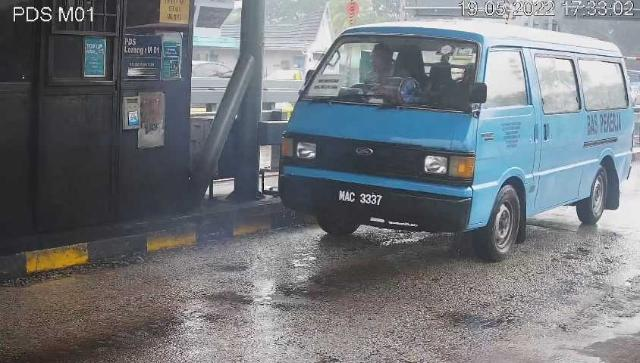License_Plate: (337, 187, 388, 213)
van: (280, 22, 636, 264)
